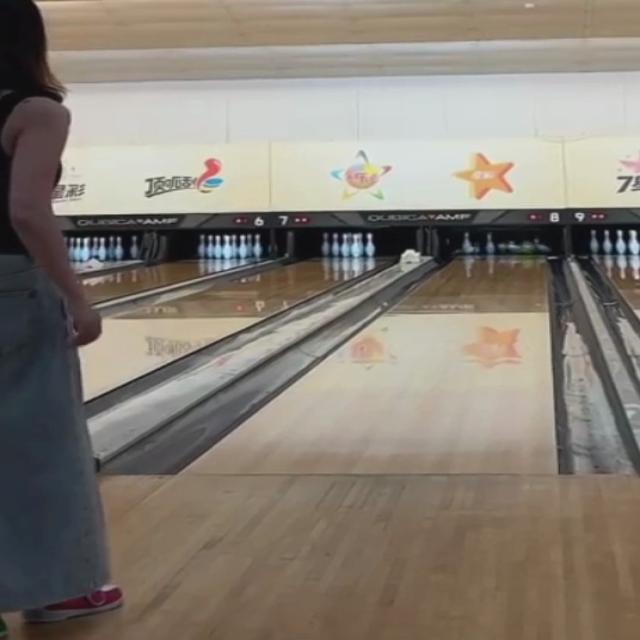alley: (192, 258, 555, 473)
balls: (521, 241, 536, 254)
bottle: (456, 233, 549, 256)
